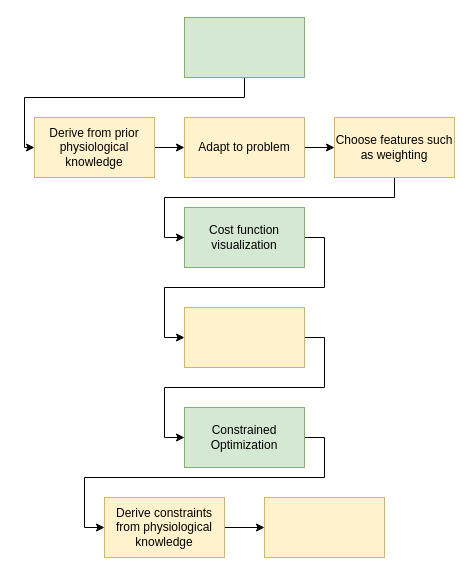
The diagram is 472 pixels wide and 575 high, and some of its shapes have lost their labels. Each missing label, with the centre of its shape:
Choice of cost function: the point at 244,47
Grid search with convergence criteria: the point at 244,337
Optimization method: the point at 324,527
